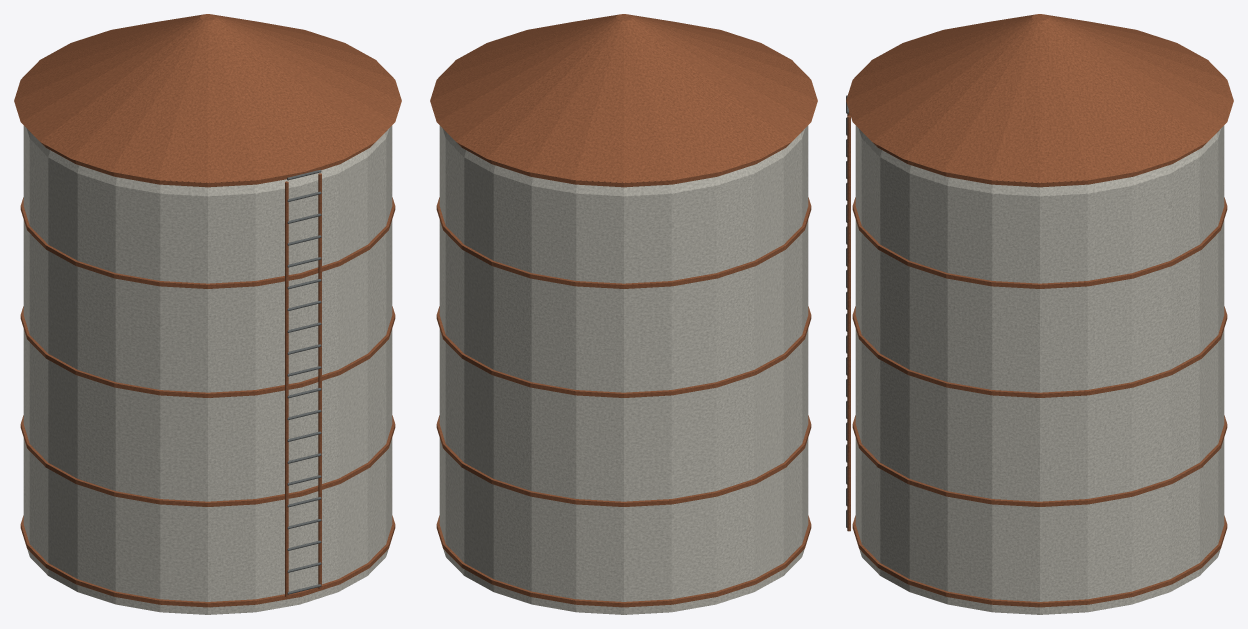
File: WATRTNK2_lod1.glb
3 views of the same model, side by side, from view 1: azimuth 30°, elevation 25°; view 2: azimuth 150°, elevation 25°; view 3: azimuth 270°, elevation 25° (orthographic).
Parts seen in each view (by area): view 1: WATRTNK2_LOD1; view 2: WATRTNK2_LOD1; view 3: WATRTNK2_LOD1.
Part boxes in pixels (x1,y1,x2,y2): WATRTNK2_LOD1: [14, 14, 401, 614]; WATRTNK2_LOD1: [430, 14, 817, 614]; WATRTNK2_LOD1: [846, 14, 1233, 614].
Size of the model in its own units: 4.84 by 7.15 by 4.84.
Materials: 3 (3 with a texture image).
